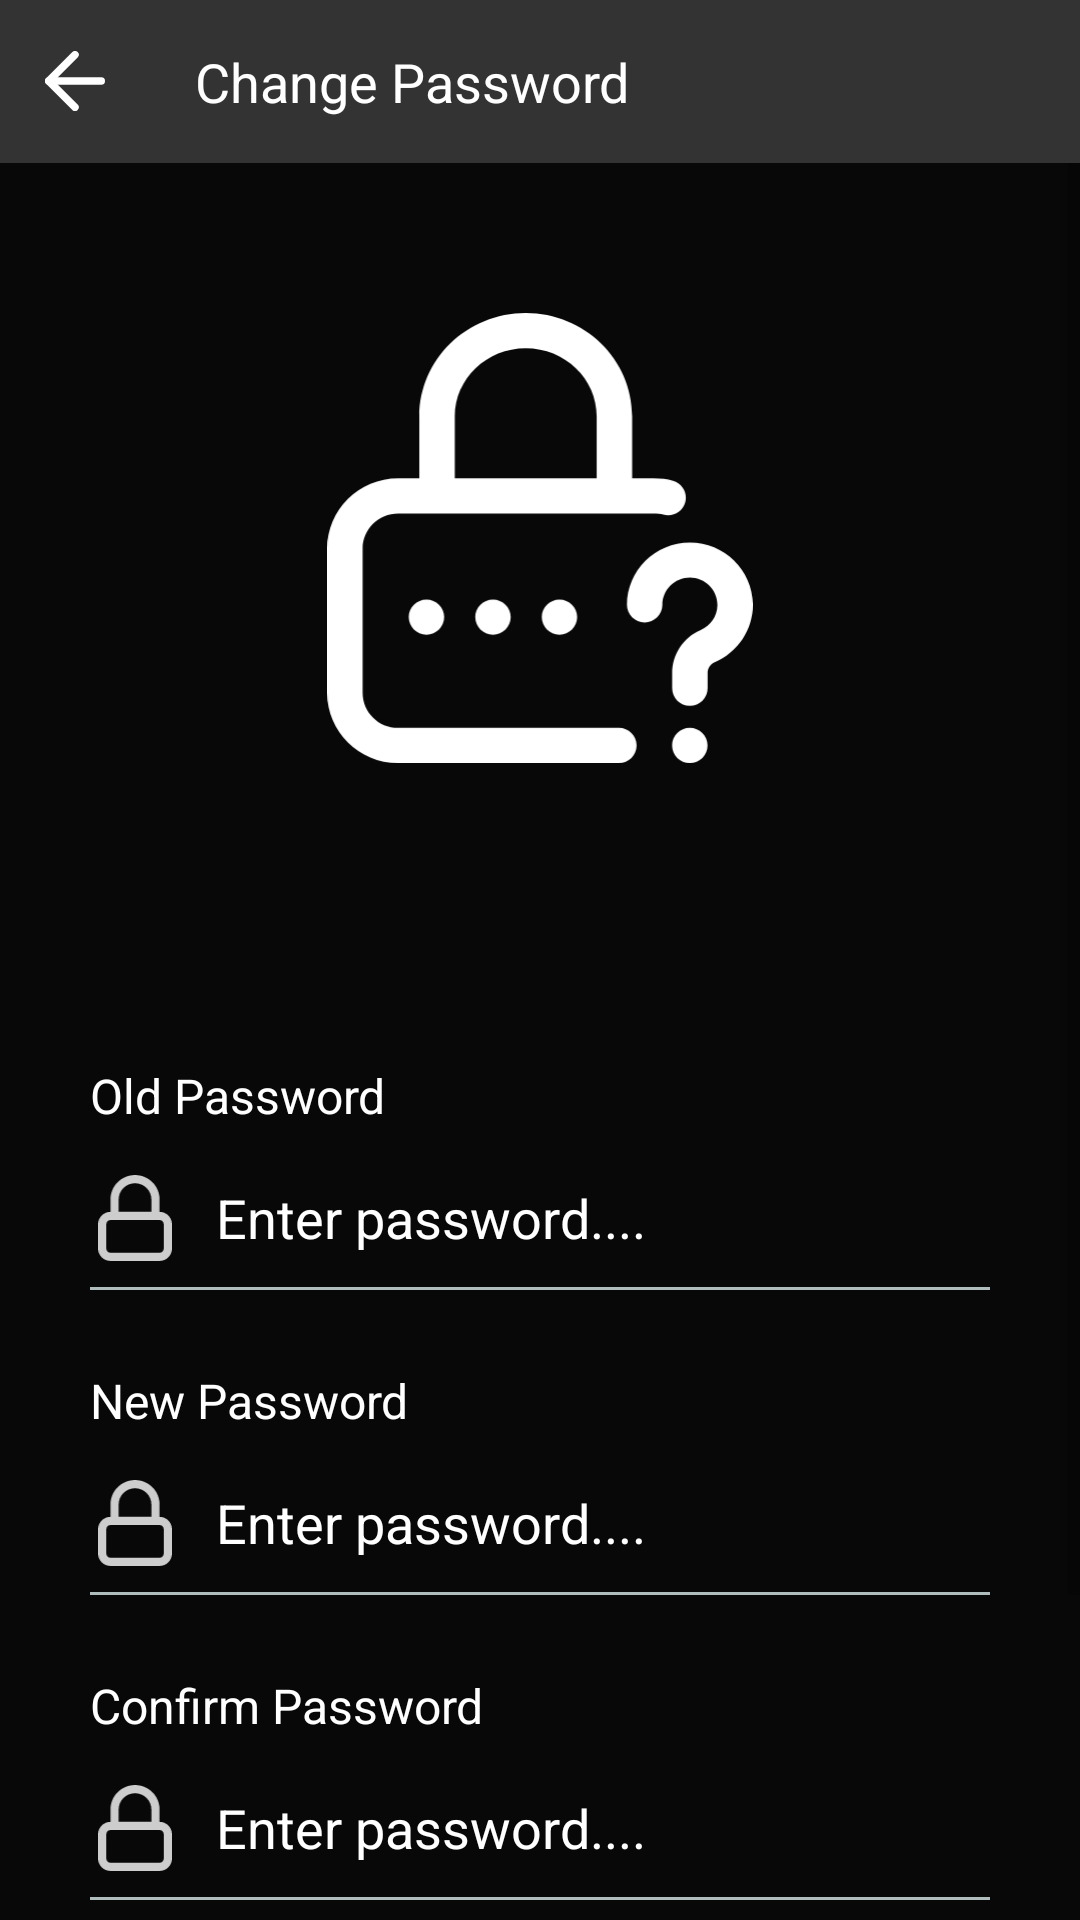

Icon click points for this 1080×1920 phone screenshot, format (x=x, y=y):
back: (x=75, y=81)
lockicon: (x=135, y=1218), (x=135, y=1523), (x=135, y=1828)
